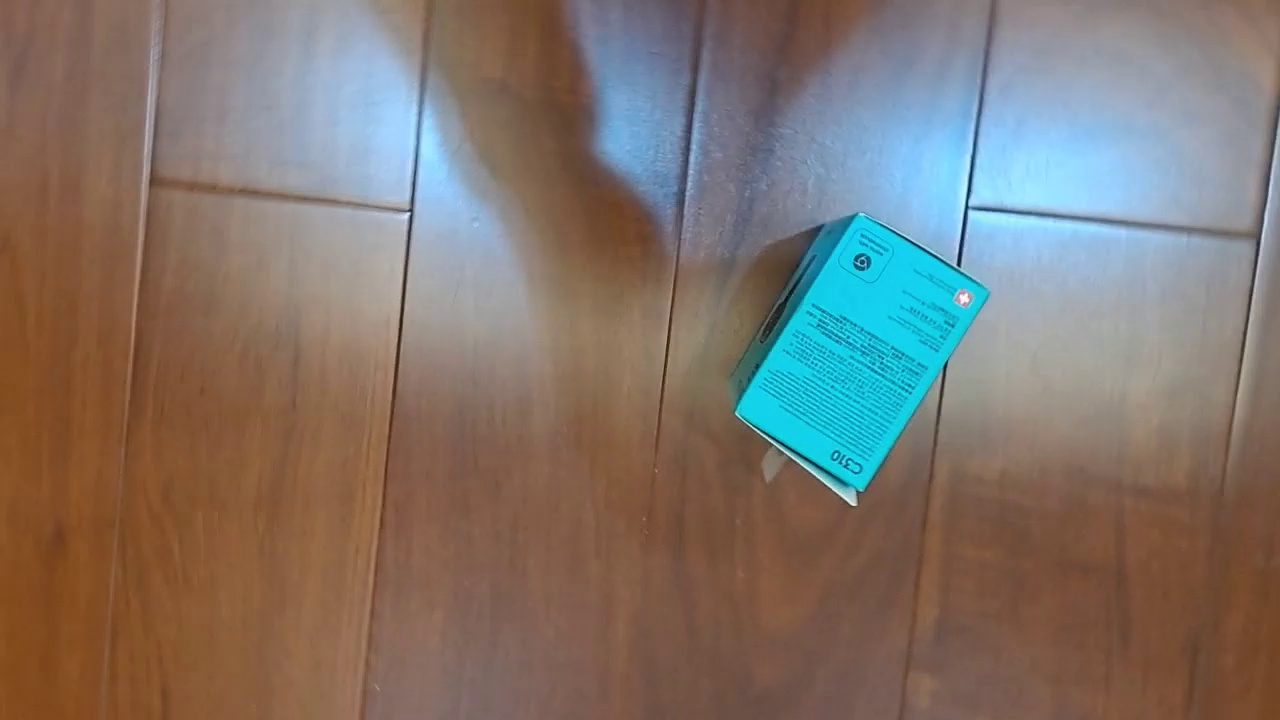webcam: (731, 212, 991, 507)
